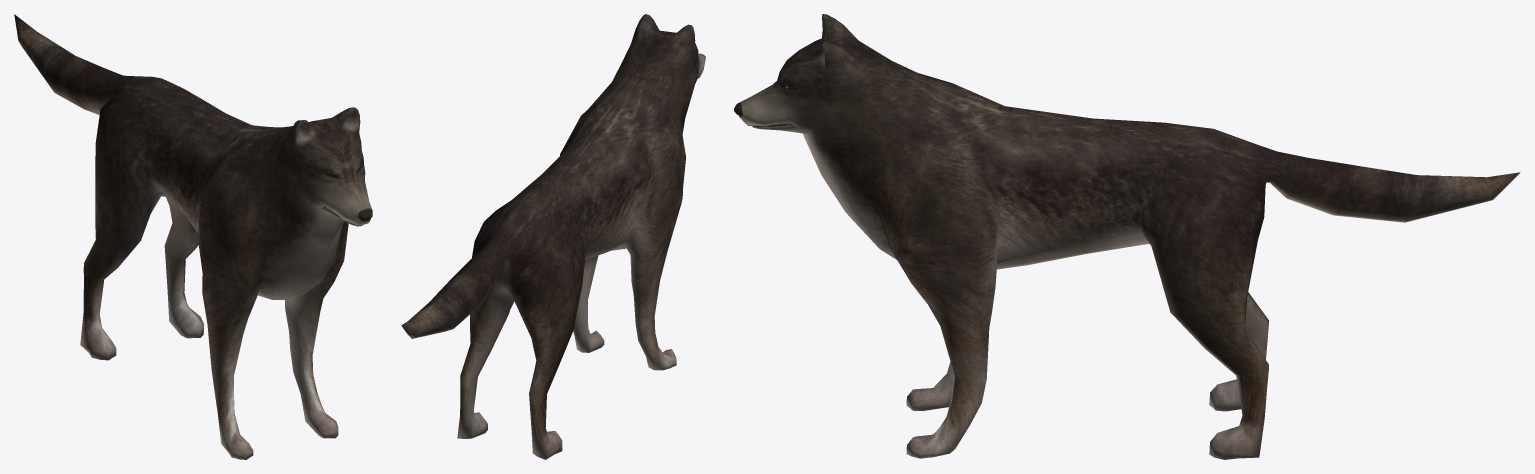
File: Idle Wolf 1.fbx
3 renders of one model, left to right at view 1: azimuth 30°, elevation 25°; view 2: azimuth 150°, elevation 25°; view 3: azimuth 270°, elevation 25°, orthographic. The views are drawn at different scales.
Parts seen in each view (by area): view 1: Wolf1_Material__wolf_col_tga_0; view 2: Wolf1_Material__wolf_col_tga_0; view 3: Wolf1_Material__wolf_col_tga_0.
Part boxes in pixels (x1,y1,x2,y2): Wolf1_Material__wolf_col_tga_0: [14, 14, 372, 459]; Wolf1_Material__wolf_col_tga_0: [401, 14, 705, 459]; Wolf1_Material__wolf_col_tga_0: [734, 14, 1520, 459].
Bounding box in the file's own units: 20.29 × 57.61 × 102.
Materials: 1 (1 with a texture image).
